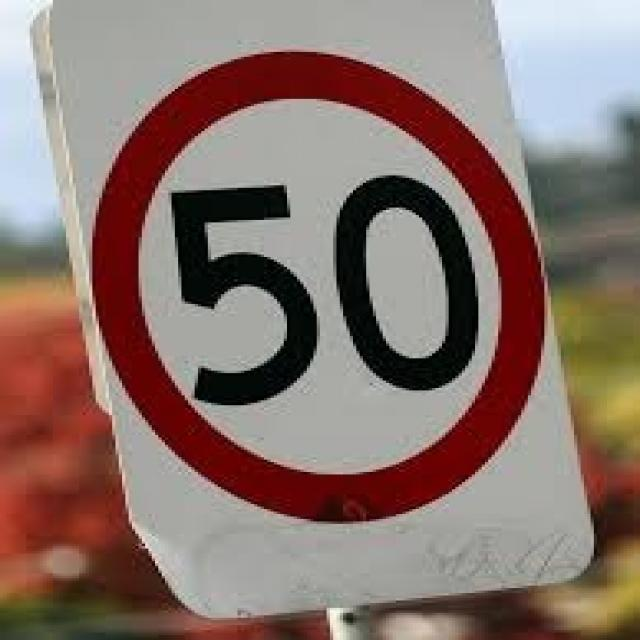speed_limit_50: (69, 39, 586, 524)
